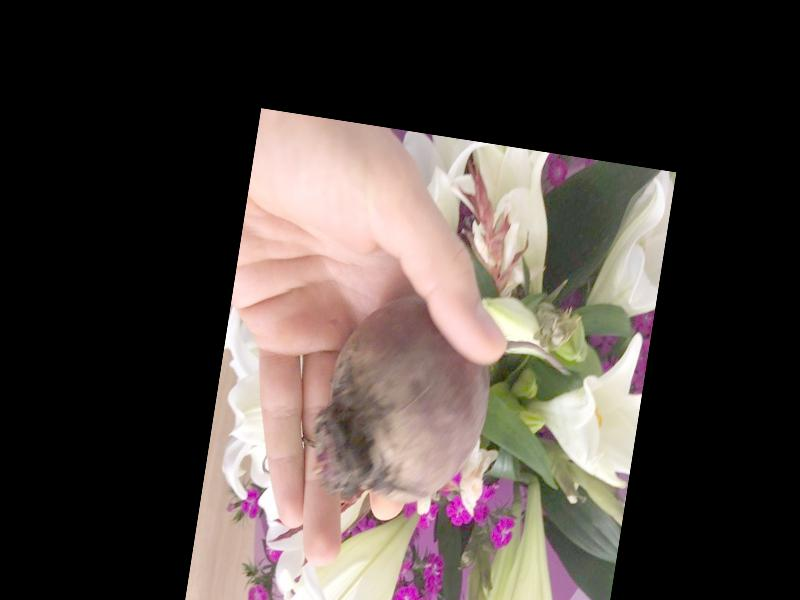Beet: (311, 287, 577, 528)
